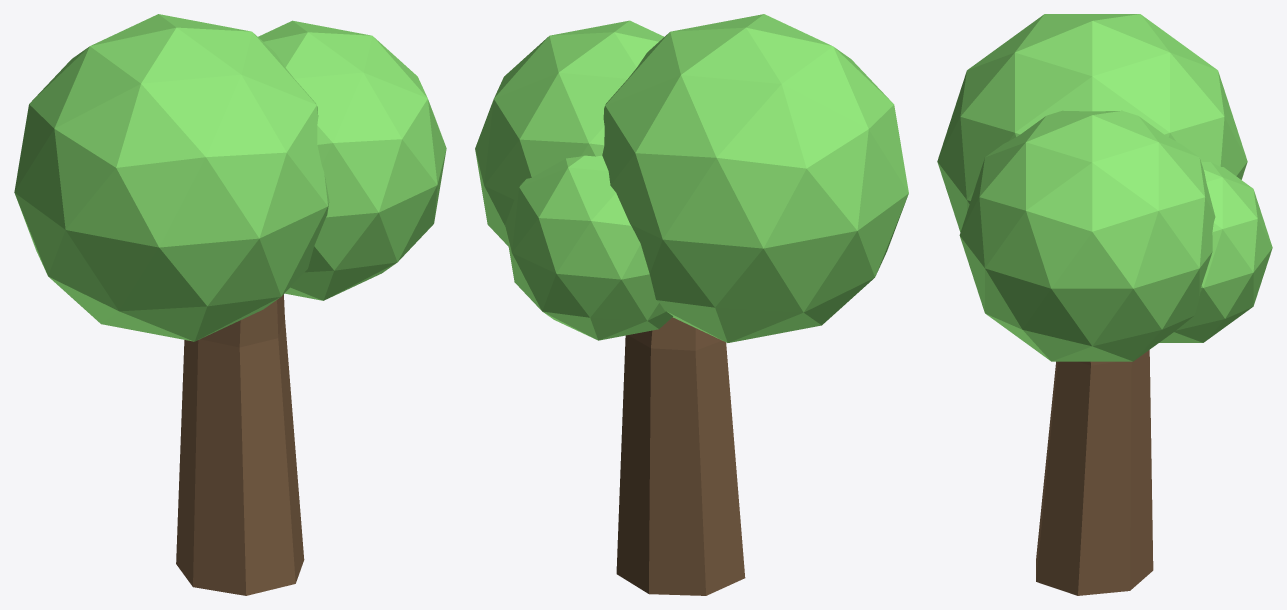
File: tree4.fbx
The picture shows the model from 3 angles, left to right: view 1: azimuth 30°, elevation 25°; view 2: azimuth 150°, elevation 25°; view 3: azimuth 270°, elevation 25°; orthographic projection. The views are drawn at different scales.
Parts seen in each view (by area): view 1: tree4; view 2: tree4; view 3: tree4.
Boxes of the visible parts, x1,y1,x2,y2 form: tree4: [14, 14, 446, 595]; tree4: [475, 14, 908, 595]; tree4: [937, 14, 1272, 595].
Bounding box in the file's own units: 377 × 521 × 304.
